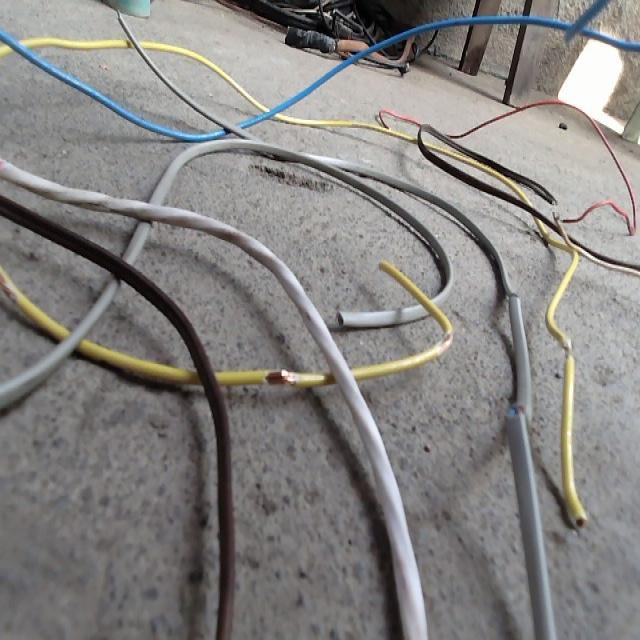-: (263, 367, 297, 388), (504, 399, 526, 424), (434, 328, 452, 355), (563, 336, 573, 360)
